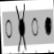correct: (43, 14, 52, 38)
not correct: (15, 0, 27, 52)
